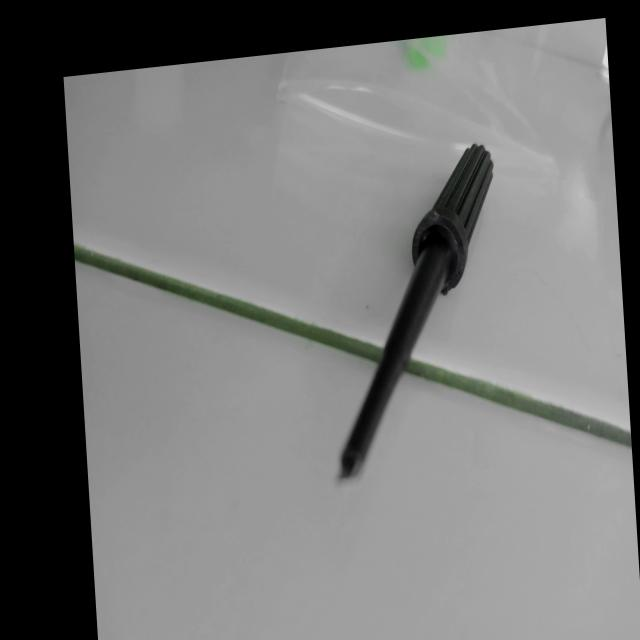Screw Driver: (304, 111, 518, 491)
